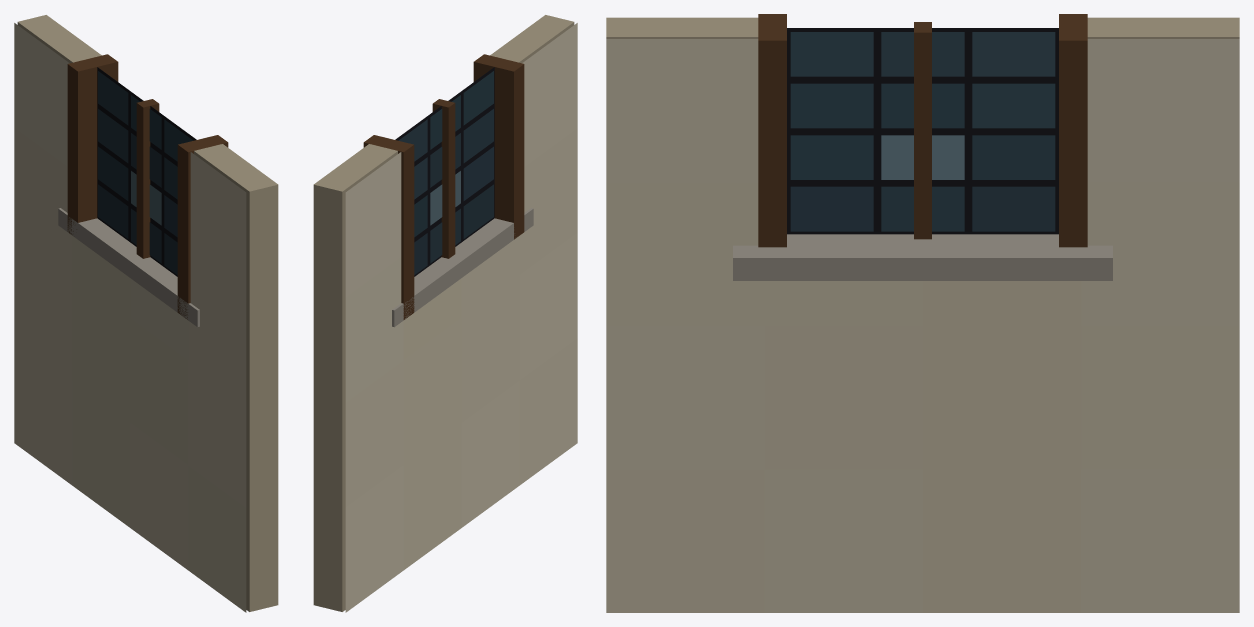
Rendered from wall-plaster-window-low.glb.
3 views of the same model, side by side, from view 1: azimuth 30°, elevation 25°; view 2: azimuth 150°, elevation 25°; view 3: azimuth 270°, elevation 25° (orthographic). The views are drawn at different scales.
Parts seen in each view (by area): view 1: wall-plaster-window-low; view 2: wall-plaster-window-low; view 3: wall-plaster-window-low.
Part boxes in pixels (left/top/right/bottom): wall-plaster-window-low: left=14, top=15, right=278, bottom=612; wall-plaster-window-low: left=313, top=15, right=577, bottom=612; wall-plaster-window-low: left=606, top=14, right=1239, bottom=612.
Bounding box in the file's own units: 0.14 × 1 × 1.
